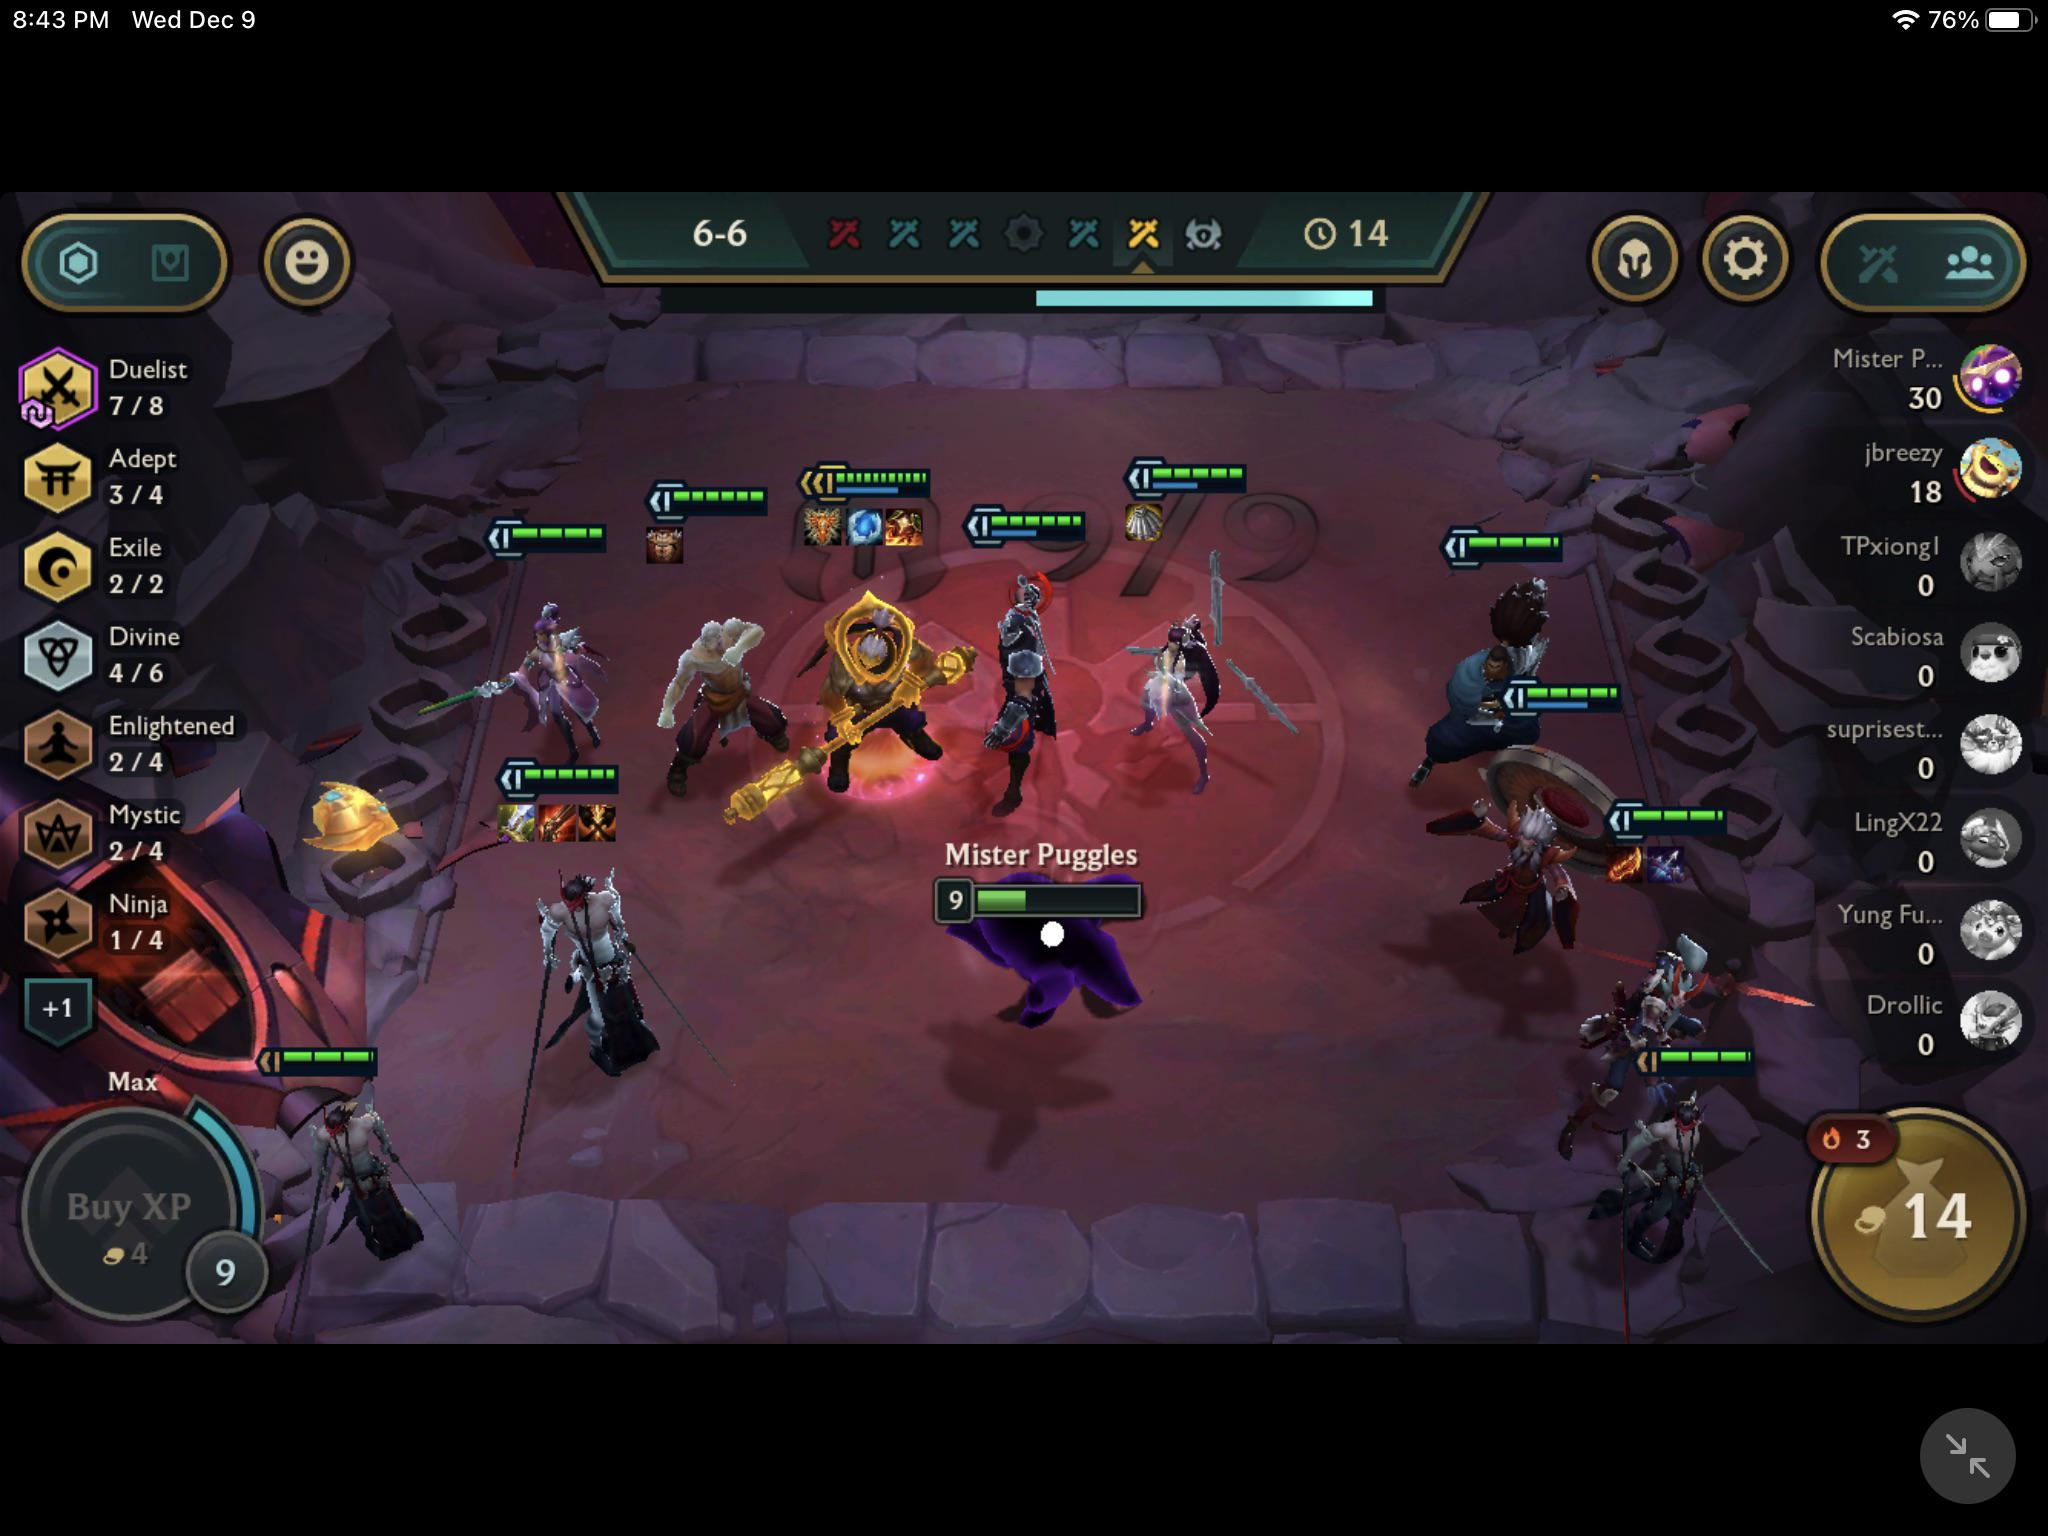1star_yone: (240, 1031, 493, 1352), (1567, 1039, 1801, 1355)
2star_fiora: (393, 495, 627, 783)
2star_irelia: (1105, 434, 1319, 816)
2star_kalista: (1543, 776, 1830, 1160)
2star_leesin: (632, 473, 801, 823)
2star_shen: (943, 490, 1114, 841)
2star_yasuo: (1384, 511, 1577, 826)
2star_yone: (461, 741, 748, 1192)
2star_zilean: (1409, 660, 1651, 1007)
3star_jax: (708, 444, 989, 860)
item_bramble: (639, 523, 689, 566)
item_divine: (492, 795, 540, 841)
item_duelist: (574, 799, 622, 844)
item_frozenheart: (839, 500, 889, 545)
item_guinsoo: (1601, 837, 1650, 883)
item_lastwhisper: (1642, 841, 1690, 886)
item_locket: (797, 502, 845, 547)
item_negatron: (1119, 499, 1168, 544)
item_rfc: (532, 800, 581, 845)
item_sunfire: (877, 503, 927, 549)
trait_adept3: (2, 434, 277, 524)
trait_divine4: (2, 607, 277, 697)
trait_duelist7: (2, 332, 276, 439)
trait_duelist_chosen: (2, 332, 110, 434)
trait_enlightened2: (2, 697, 277, 787)
trait_exile2: (2, 521, 277, 611)
trait_mystic2: (2, 791, 277, 883)
trait_ninja1: (2, 879, 277, 970)
